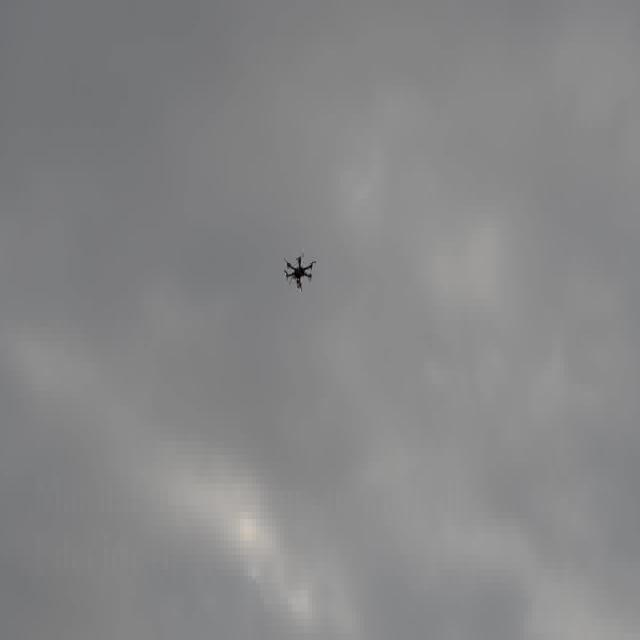drone: (282, 247, 316, 294)
